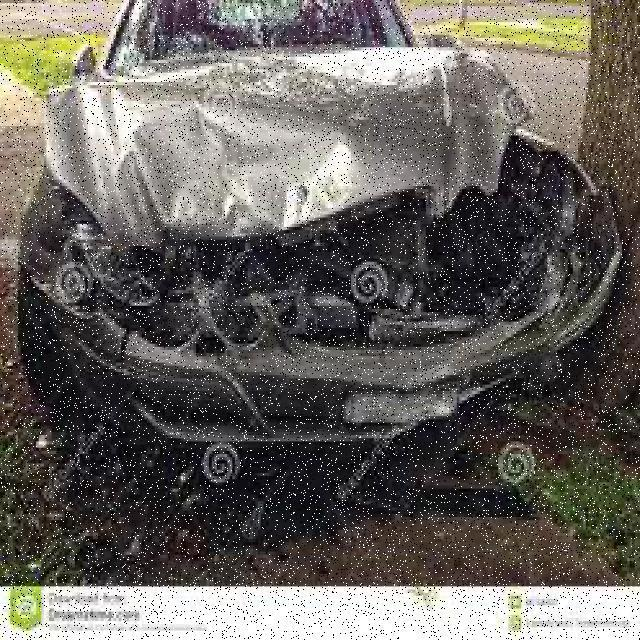car damage: (39, 44, 530, 265), (41, 255, 537, 451)
